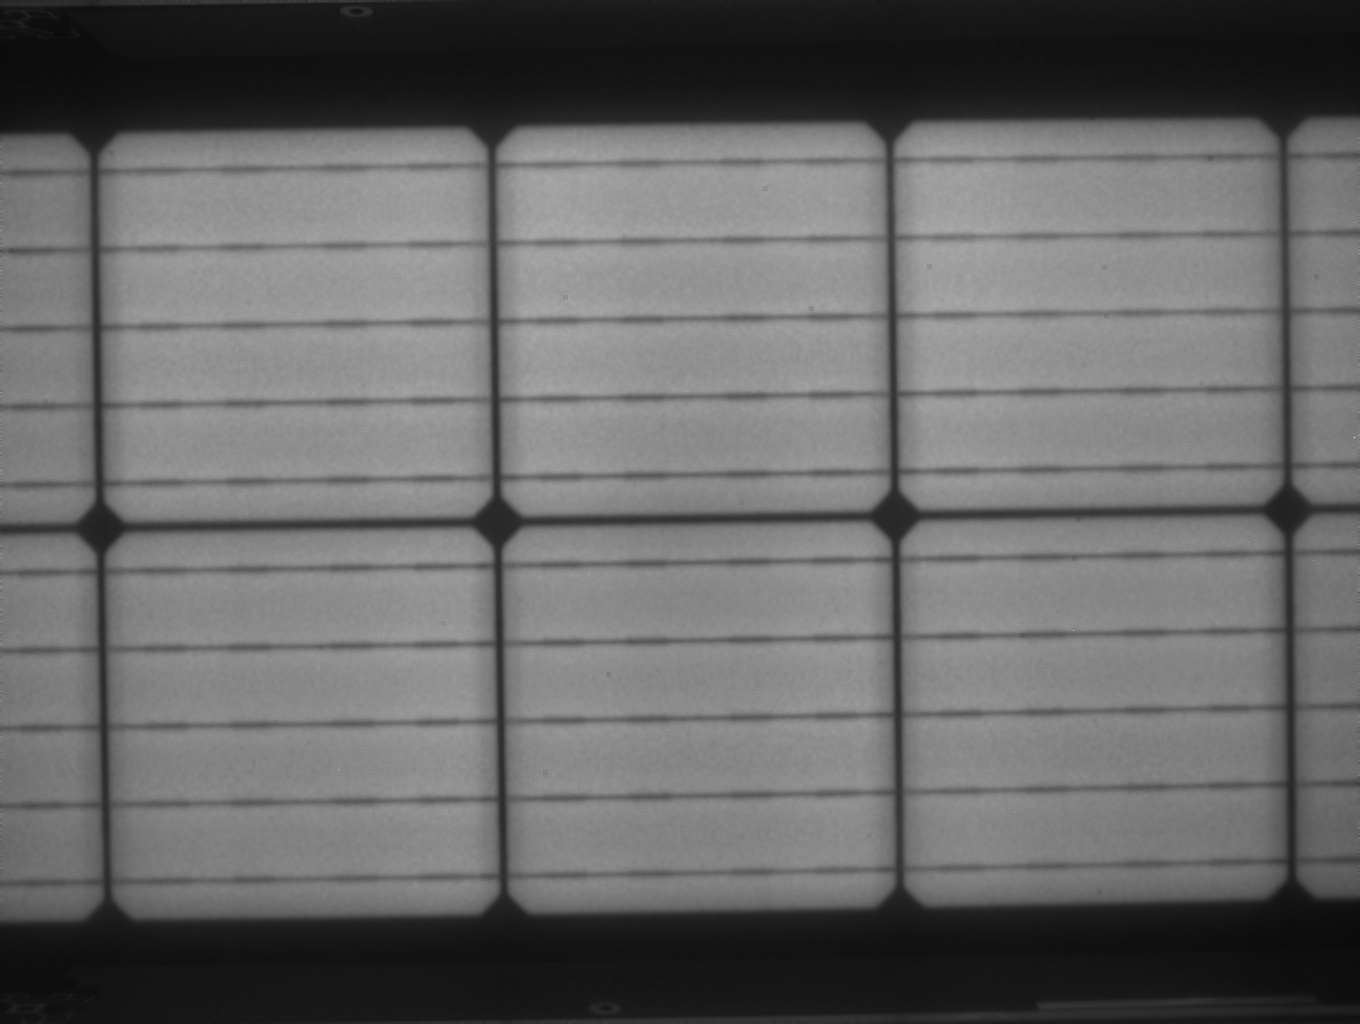loc: (94, 132, 200, 242), (110, 923, 225, 1007), (1283, 117, 1322, 187), (1294, 902, 1334, 961)
